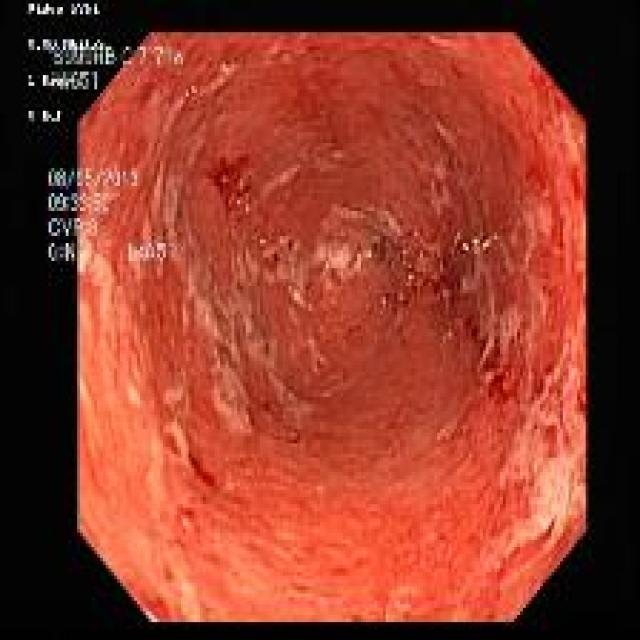ulcerative-colitis: (76, 33, 586, 621)
